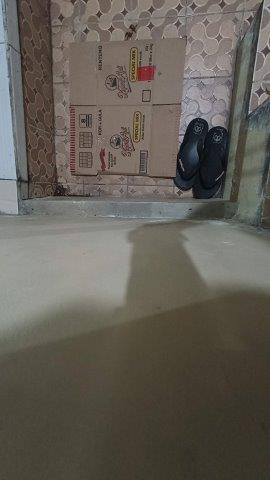kardus: (71, 40, 186, 177)
